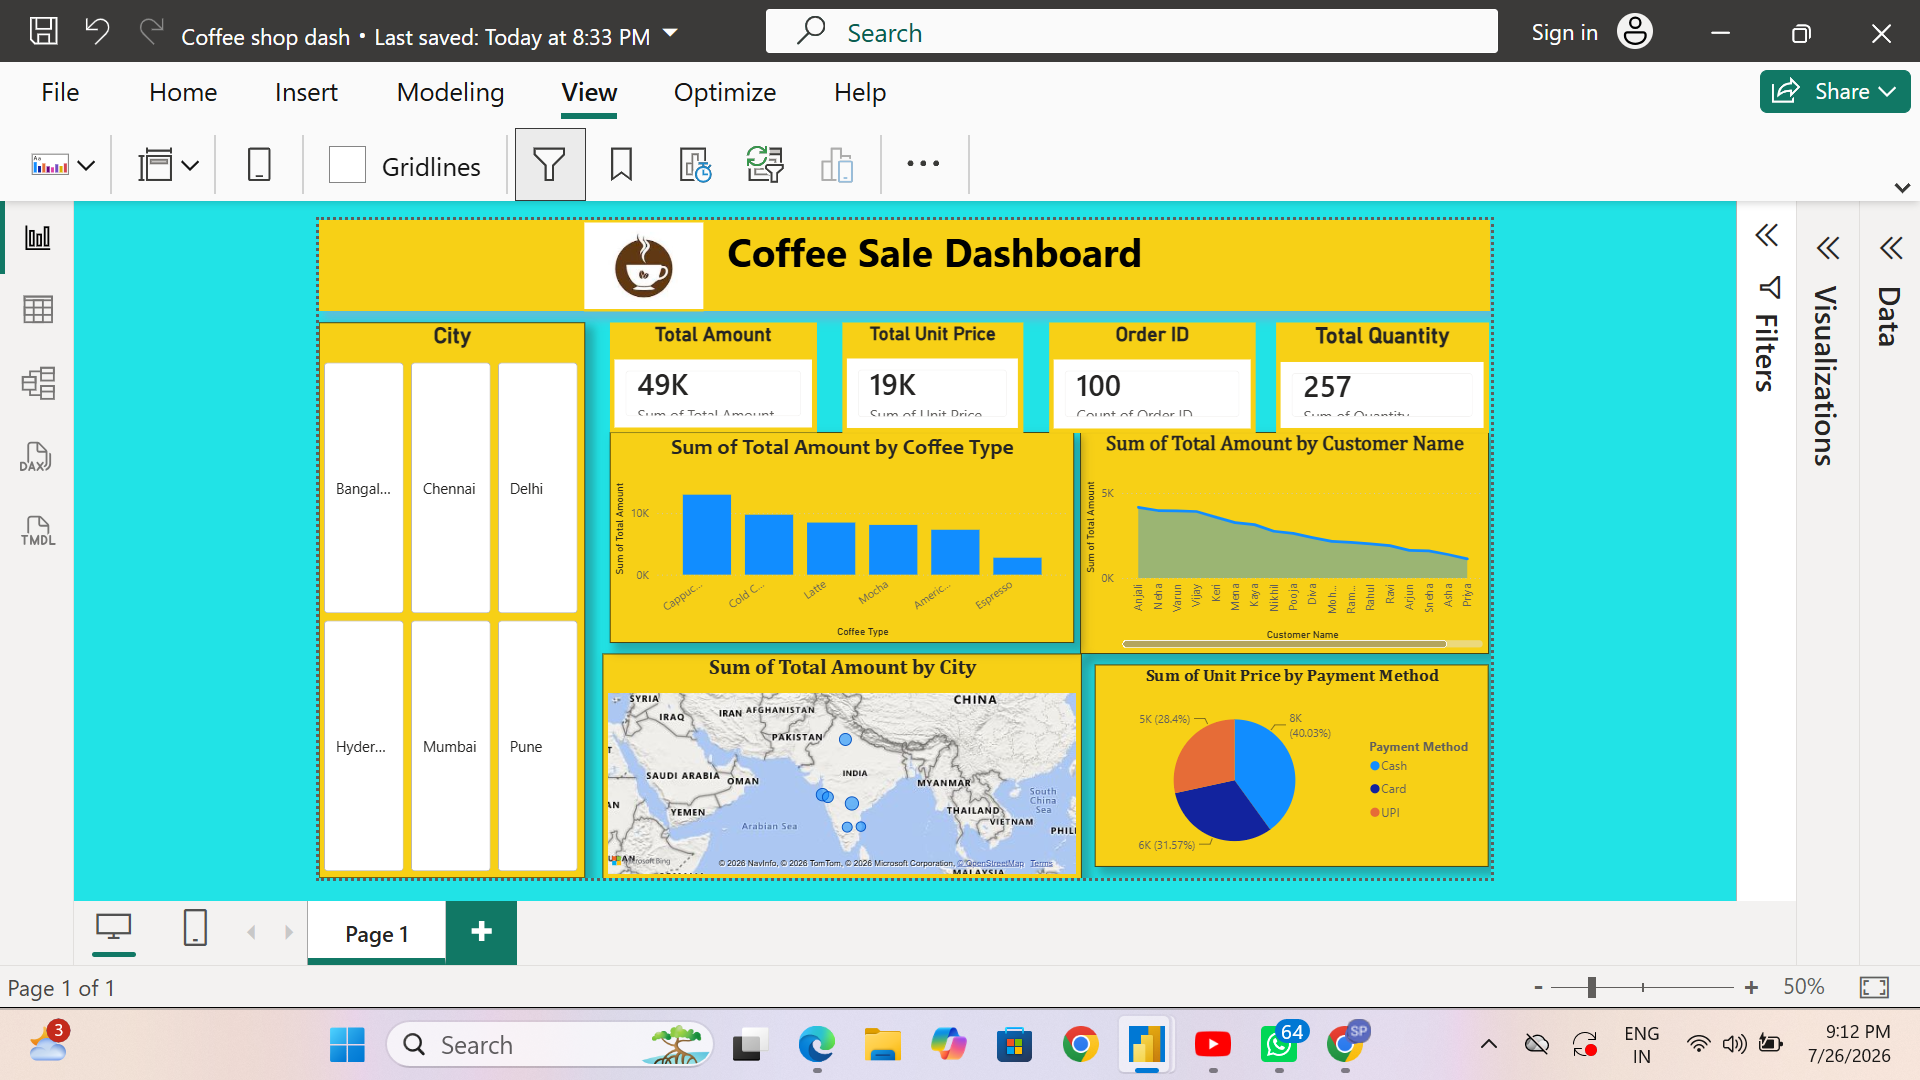

The dashboard page shown, as its layout file describes it:
{"tool":"powerbi","page":{"name":"Page 1","canvas":[1280,720],"ordinal":0},"visuals":[{"type":"textbox","box":[0,0,1279.8,99.7],"z":0},{"type":"textbox","box":[0,0,1279.8,99.7],"z":1000},{"type":"areaChart","fields":{"Category":["Sheet.Customer Name"],"Y":["Sum(Sheet.Total Amount)"]},"box":[832.6,232.6,446.5,241.9],"z":2000},{"type":"map","fields":{"Category":["Sheet.City"],"Size":["Sum(Sheet.Total Amount)"]},"box":[309.3,474.4,523.5,247.2],"z":3000},{"type":"pieChart","fields":{"Category":["Sheet.Payment Method"],"Y":["Sum(Sheet.Unit Price)"]},"box":[848.8,486,430.2,220.9],"z":4000},{"type":"advancedSlicerVisual","fields":{"Values":["Sheet.City"]},"box":[0,111.6,290.7,607],"z":5000},{"type":"columnChart","fields":{"Y":["Sum(Sheet.Total Amount)"],"Category":["Sheet.Coffee Type"]},"box":[318.6,232.6,507,230.2],"z":6000},{"type":"cardVisual","title":"Total Unit Price","fields":{"Data":["Sum(Sheet.Unit Price)"]},"box":[546.5,111.6,197.7,120.9],"z":7000},{"type":"image","box":[290.7,0,130.2,100],"z":8000},{"type":"cardVisual","title":"Total Quantity","fields":{"Data":["Sum(Sheet.Quantity)"]},"box":[1004.7,111.6,232.6,120.9],"z":9000},{"type":"cardVisual","title":"Order ID","fields":{"Data":["CountNonNull(Sheet.Order ID)"]},"box":[760.5,111.6,225.6,120.9],"z":10000},{"type":"cardVisual","title":"Total Amount","fields":{"Data":["Sum(Sheet.Total Amount)"]},"box":[307,111.6,225.6,120.9],"z":11000}]}

Visuals, with their boxes on the page's 1280x720 design canvas (x1, y1, x2, y2). These are canvas units, not pixel positions in the 1920x1080 screenshot, which may show the page scaled, cropped or inside an application window:
textbox: region(0, 0, 1280, 100)
textbox: region(0, 0, 1280, 100)
areaChart - Sheet.Customer Name x Sum(Sheet.Total Amount): region(833, 233, 1279, 474)
map - Sheet.City x Sum(Sheet.Total Amount): region(309, 474, 833, 722)
pieChart - Sheet.Payment Method x Sum(Sheet.Unit Price): region(849, 486, 1279, 707)
advancedSlicerVisual - Sheet.City: region(0, 112, 291, 719)
columnChart - Sum(Sheet.Total Amount) x Sheet.Coffee Type: region(319, 233, 826, 463)
"Total Unit Price" cardVisual: region(546, 112, 744, 232)
image: region(291, 0, 421, 100)
"Total Quantity" cardVisual: region(1005, 112, 1237, 232)
"Order ID" cardVisual: region(760, 112, 986, 232)
"Total Amount" cardVisual: region(307, 112, 533, 232)
